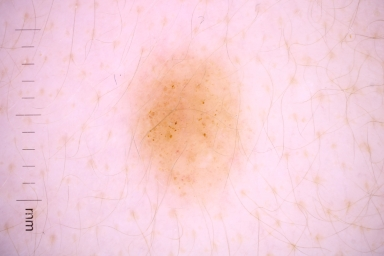melanoma: (136, 55, 245, 188)
